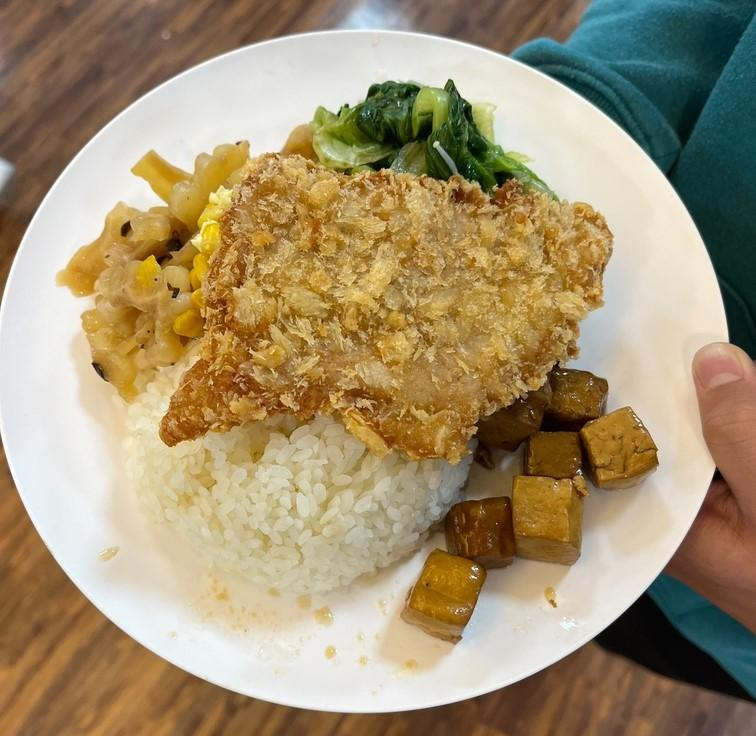big fried chicken leg: (9, 22, 743, 718)
big herbal chicken leg: (126, 397, 482, 601)
braised fish fillet: (399, 357, 662, 647), (63, 130, 249, 390), (309, 70, 548, 182)
braised pork: (149, 152, 615, 461)
